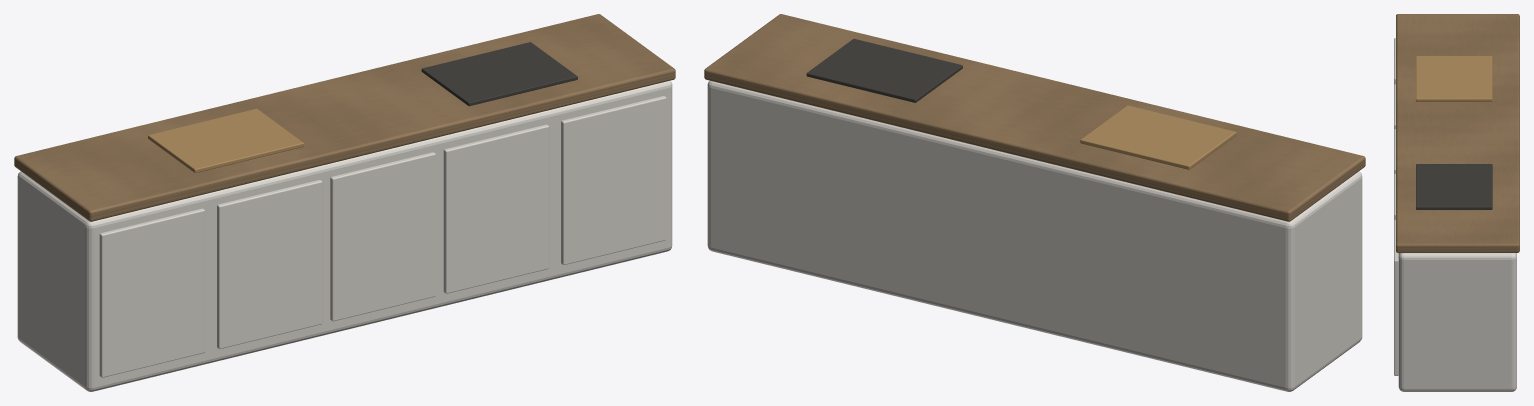
Rendered from kitchen-counter.glb.
3 renders of one model, left to right at view 1: azimuth 30°, elevation 25°; view 2: azimuth 150°, elevation 25°; view 3: azimuth 270°, elevation 25°, orthographic. The views are drawn at different scales.
Visible parts, largest first — view 1: CANONICAL worktop, CANONICAL cabinets, CANONICAL front 4, CANONICAL front 3, CANONICAL front 1, CANONICAL front 2, CANONICAL front 5, ACCENT sink, ACCENT hob; view 2: CANONICAL cabinets, CANONICAL worktop, ACCENT sink, ACCENT hob; view 3: CANONICAL worktop, CANONICAL cabinets, ACCENT hob, ACCENT sink, CANONICAL front 5.
Boxes of the visible parts, box(x1,y1,x2,y2) form: CANONICAL worktop: box(14, 14, 675, 221); CANONICAL cabinets: box(17, 80, 672, 391); CANONICAL front 4: box(443, 124, 549, 293); CANONICAL front 3: box(330, 152, 435, 321); CANONICAL front 1: box(99, 208, 204, 377); CANONICAL front 2: box(217, 180, 322, 349); CANONICAL front 5: box(561, 96, 666, 264); ACCENT sink: box(148, 108, 303, 173); ACCENT hob: box(421, 42, 577, 106); CANONICAL cabinets: box(707, 80, 1362, 391); CANONICAL worktop: box(704, 14, 1365, 221); ACCENT sink: box(1080, 105, 1236, 169); ACCENT hob: box(806, 39, 962, 102); CANONICAL worktop: box(1396, 14, 1519, 252); CANONICAL cabinets: box(1398, 253, 1516, 391); ACCENT hob: box(1416, 164, 1492, 209); ACCENT sink: box(1416, 56, 1492, 101); CANONICAL front 5: box(1394, 220, 1398, 375).
Size of the model in its own units: 3 by 0.925 by 0.6895.
4 materials, 1 textured.
